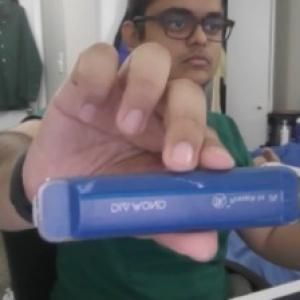Diamond-E-Ciggirate: (24, 162, 300, 246)
